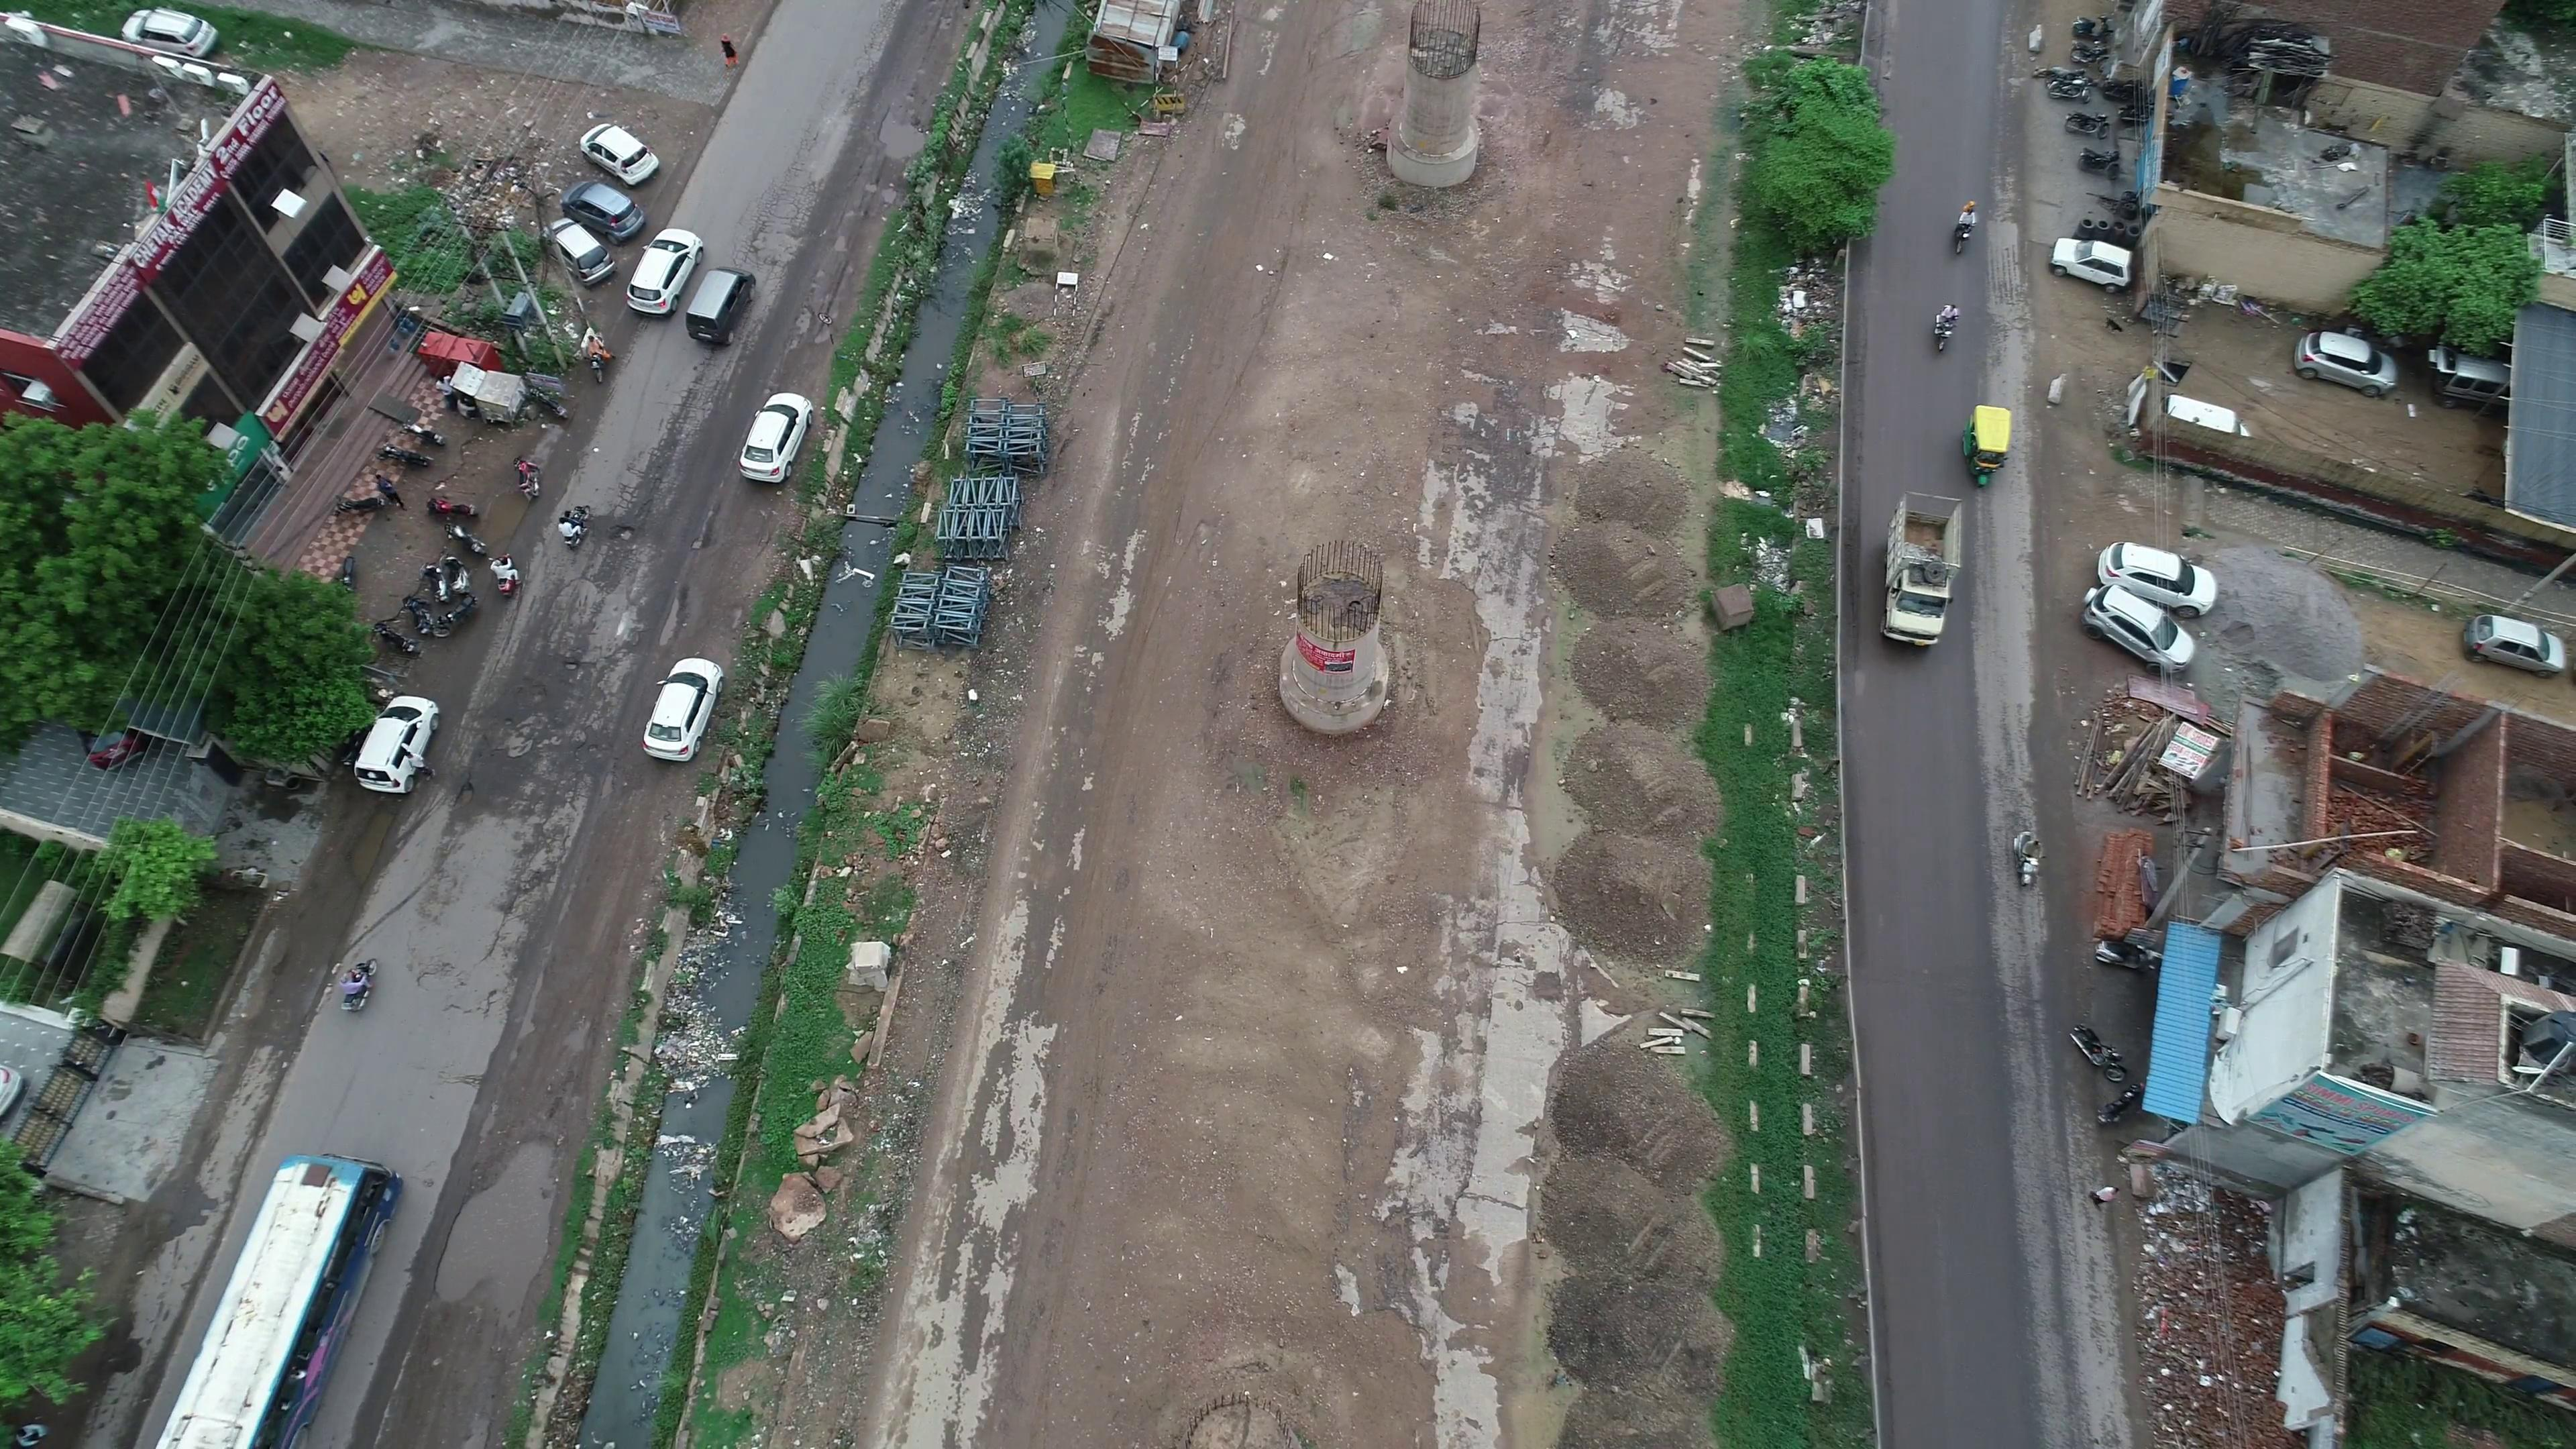Potholes: (428, 750, 536, 828), (518, 625, 616, 706), (596, 506, 663, 554)
